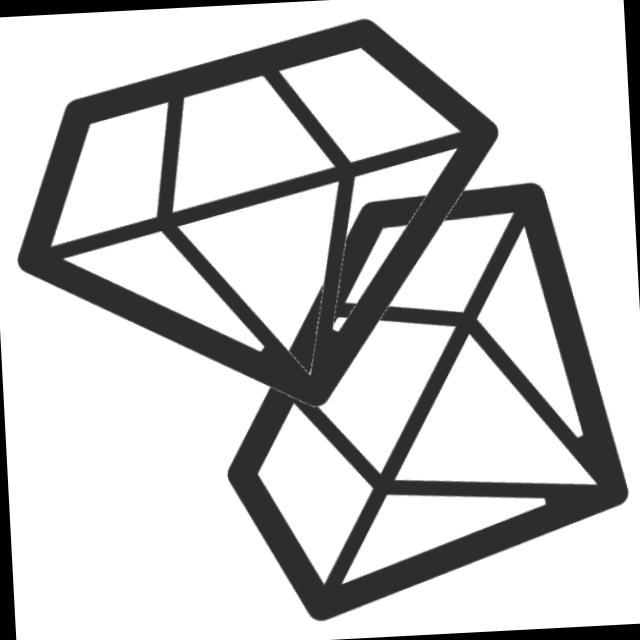diamond: (1, 3, 526, 431), (200, 164, 640, 636)
